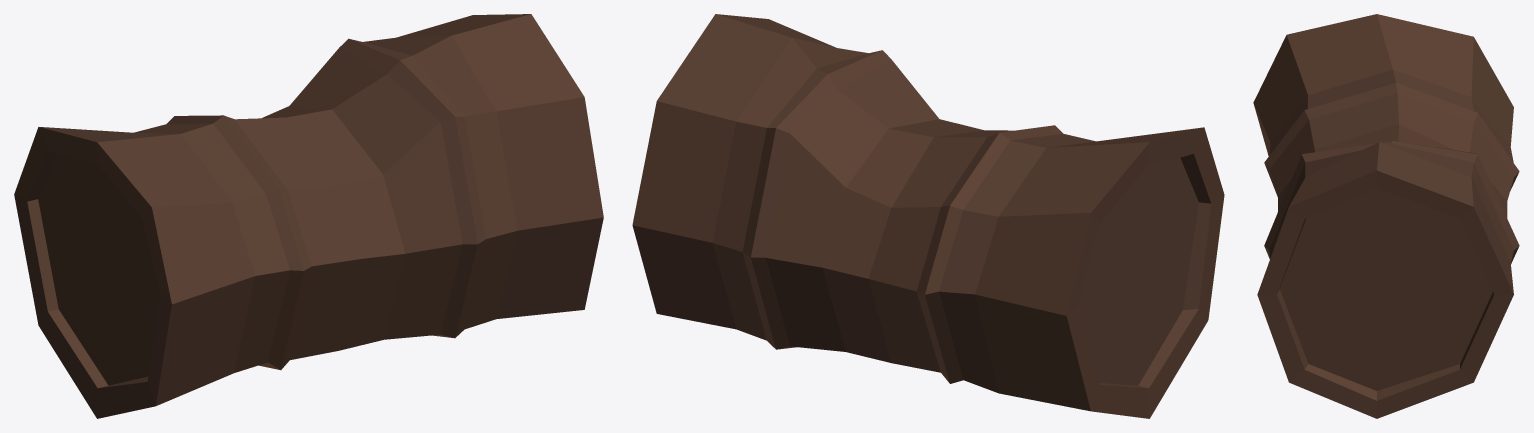
Rendered from Drum3.fbx.
3 renders of one model, left to right at view 1: azimuth 30°, elevation 25°; view 2: azimuth 150°, elevation 25°; view 3: azimuth 270°, elevation 25°, orthographic. The views are drawn at different scales.
Parts seen in each view (by area): view 1: Circle.001; view 2: Circle.001; view 3: Circle.001.
Part boxes in pixels (x1,y1,x2,y2): Circle.001: (14,14,603,418); Circle.001: (632,14,1224,418); Circle.001: (1253,14,1519,418).
Size of the model in its own units: 0.9026 by 0.5978 by 0.5806.
